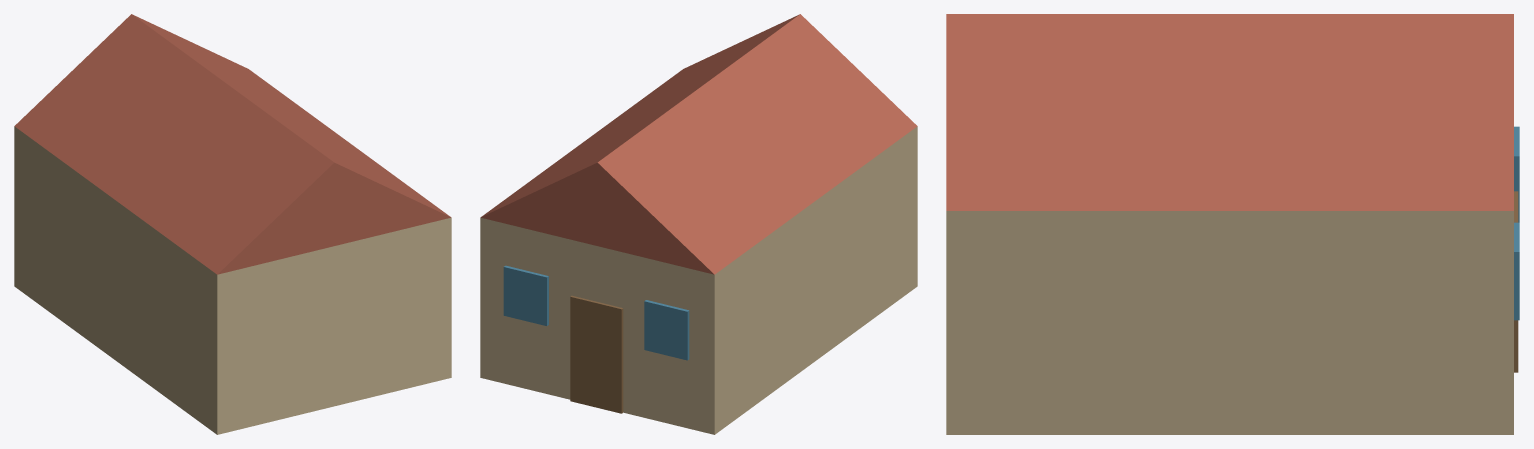
The model's file is house_town.glb.
The picture shows the model from 3 angles, left to right: view 1: azimuth 30°, elevation 25°; view 2: azimuth 150°, elevation 25°; view 3: azimuth 270°, elevation 25°; orthographic projection. The views are drawn at different scales.
Size of the model in its own units: 3.52 by 3.5 by 5.33.
